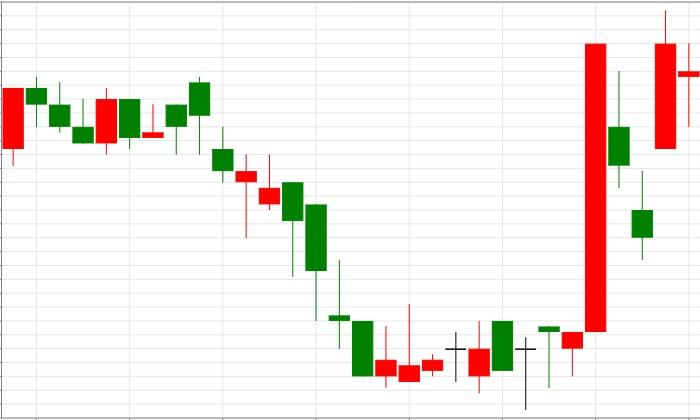bullish_engulfing_rise: (25, 77, 118, 155)
inverse_hammer_rise: (189, 77, 421, 389)
